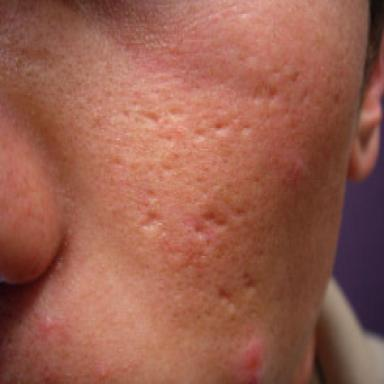acne: (231, 334, 265, 382), (184, 215, 214, 252), (39, 318, 53, 334), (95, 363, 109, 377)
